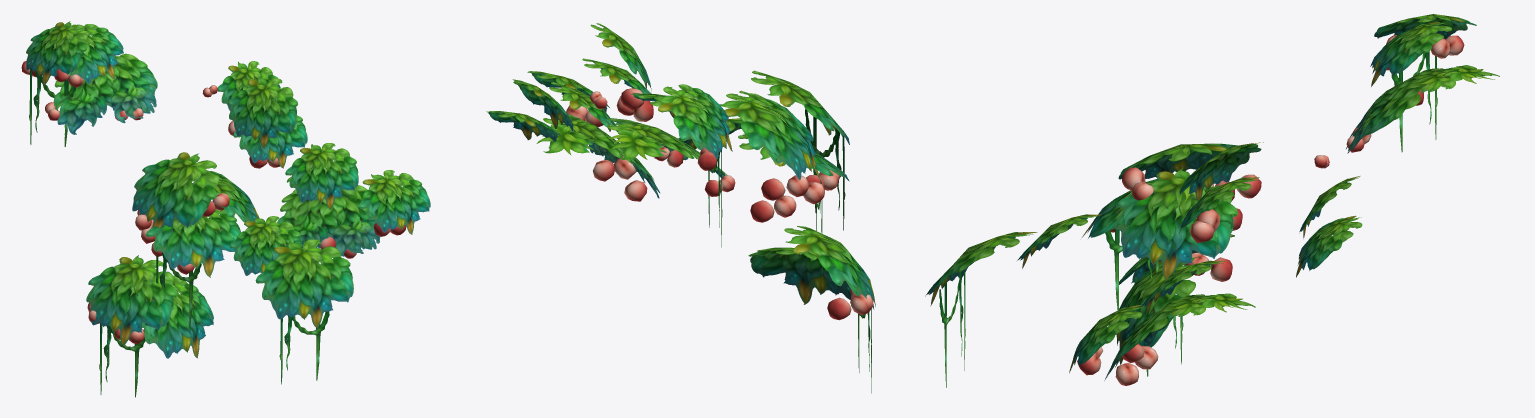
The model's file is taoshu_02.FBX.
The picture shows the model from 3 angles, left to right: view 1: azimuth 30°, elevation 25°; view 2: azimuth 150°, elevation 25°; view 3: azimuth 270°, elevation 25°; orthographic projection. The views are drawn at different scales.
Visible parts, largest first — view 1: taoshu_02; view 2: taoshu_02; view 3: taoshu_02.
Boxes of the visible parts, x1,y1,x2,y2 form: taoshu_02: (21, 21, 430, 397); taoshu_02: (486, 23, 875, 393); taoshu_02: (925, 14, 1499, 387).
Size of the model in its own units: 285 by 250 by 350.
